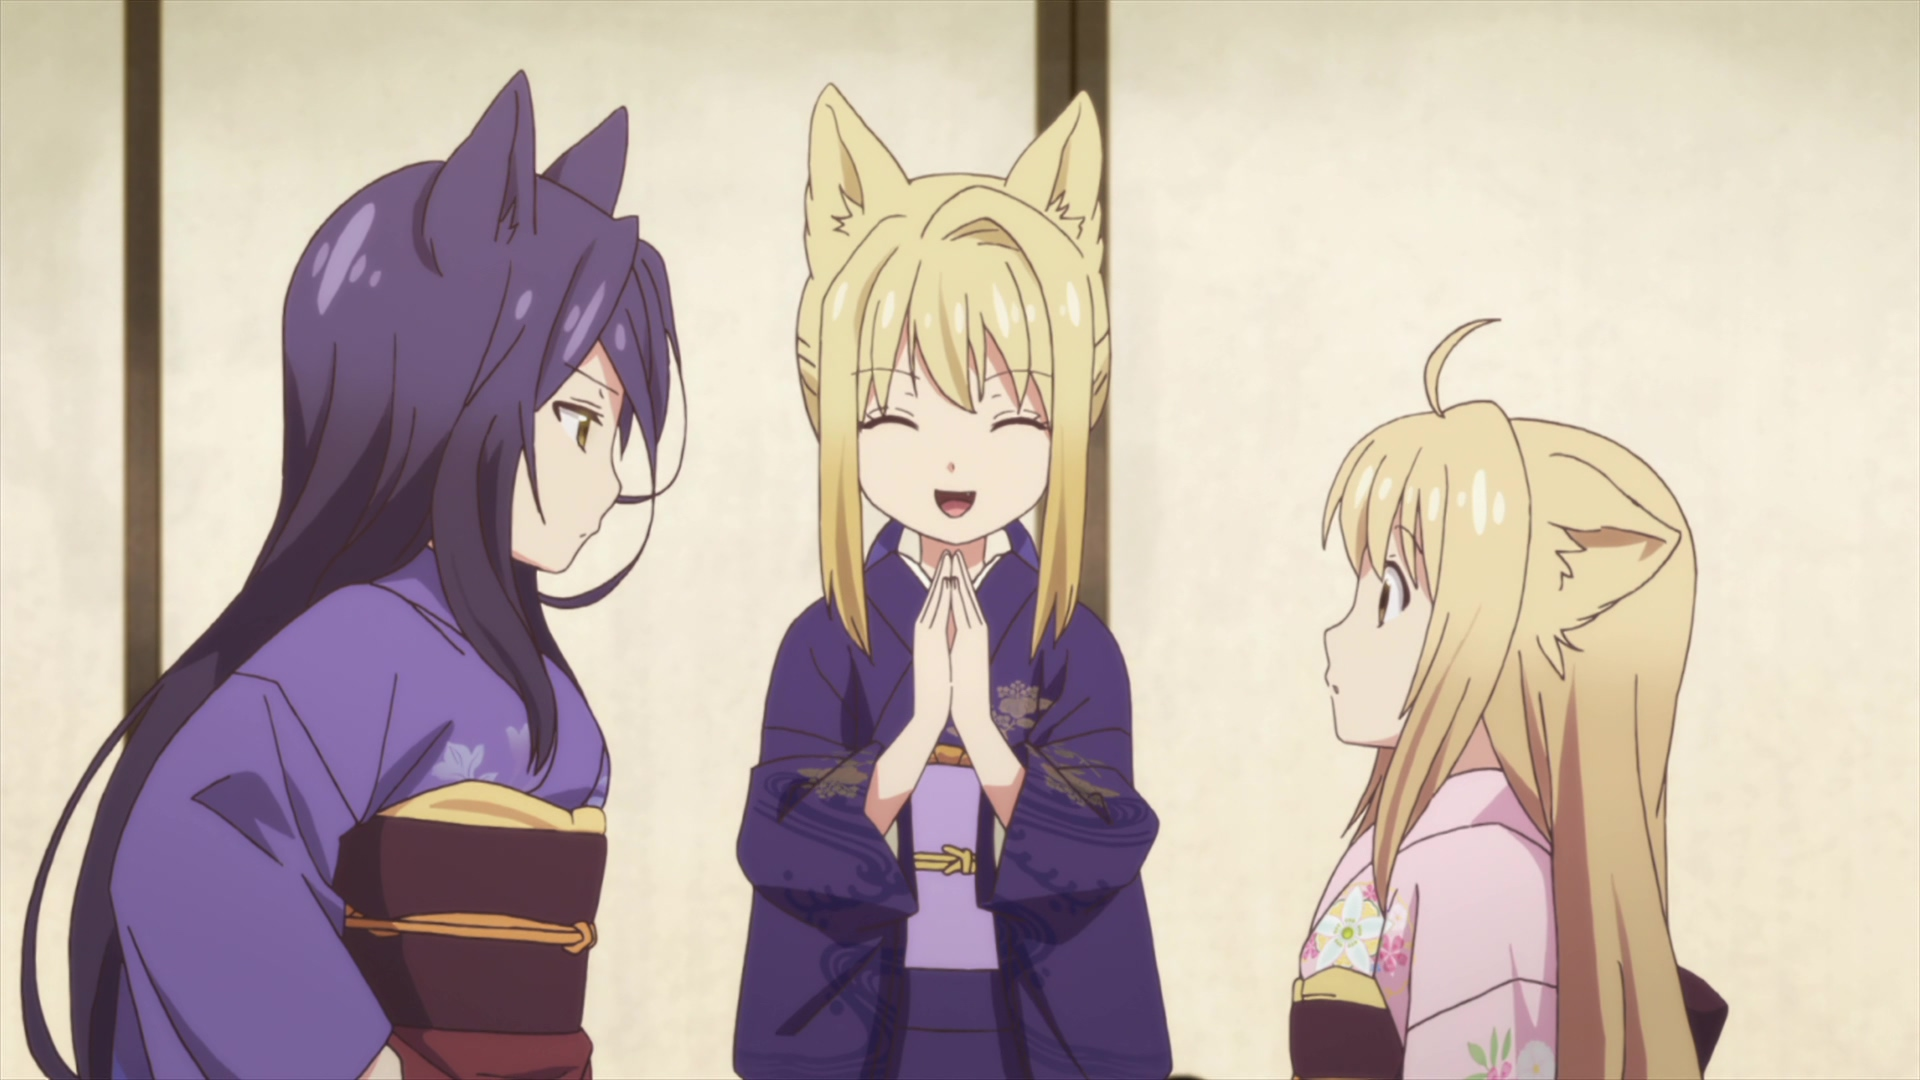柚: (1286, 316, 1730, 1080)
桐: (732, 82, 1176, 1080)
皋: (21, 69, 688, 1080)
